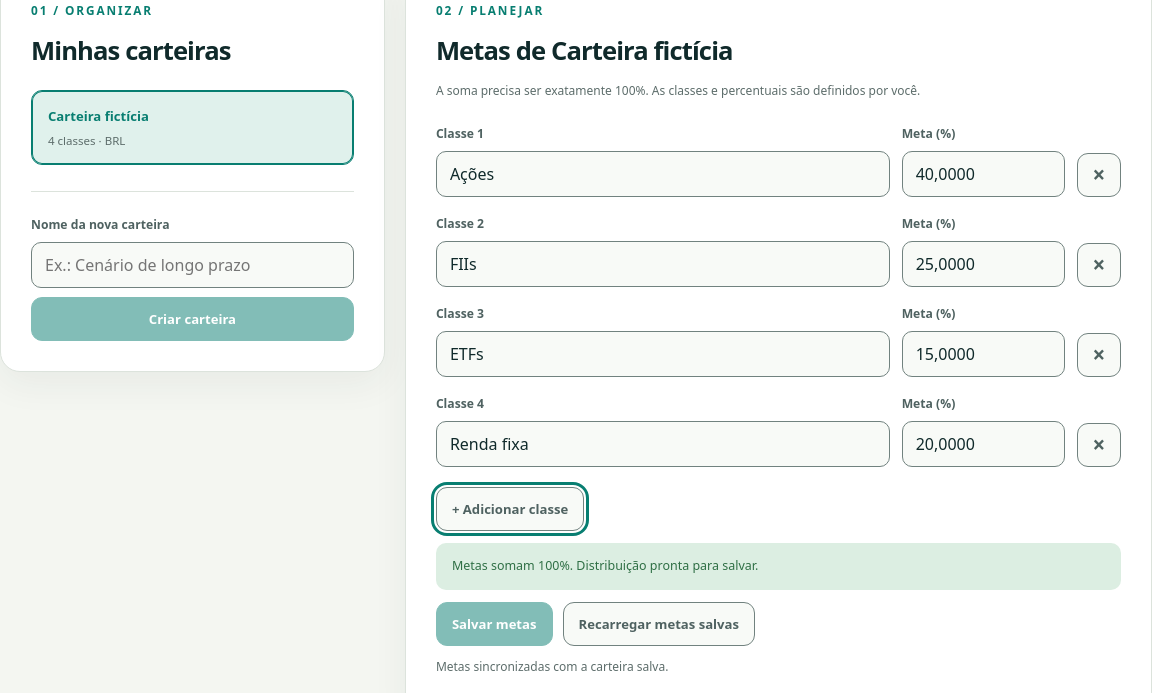
Test case: SavedPortfolio › focuses the new class name and associates validation with the save control
(page scrolled)
Press Enter
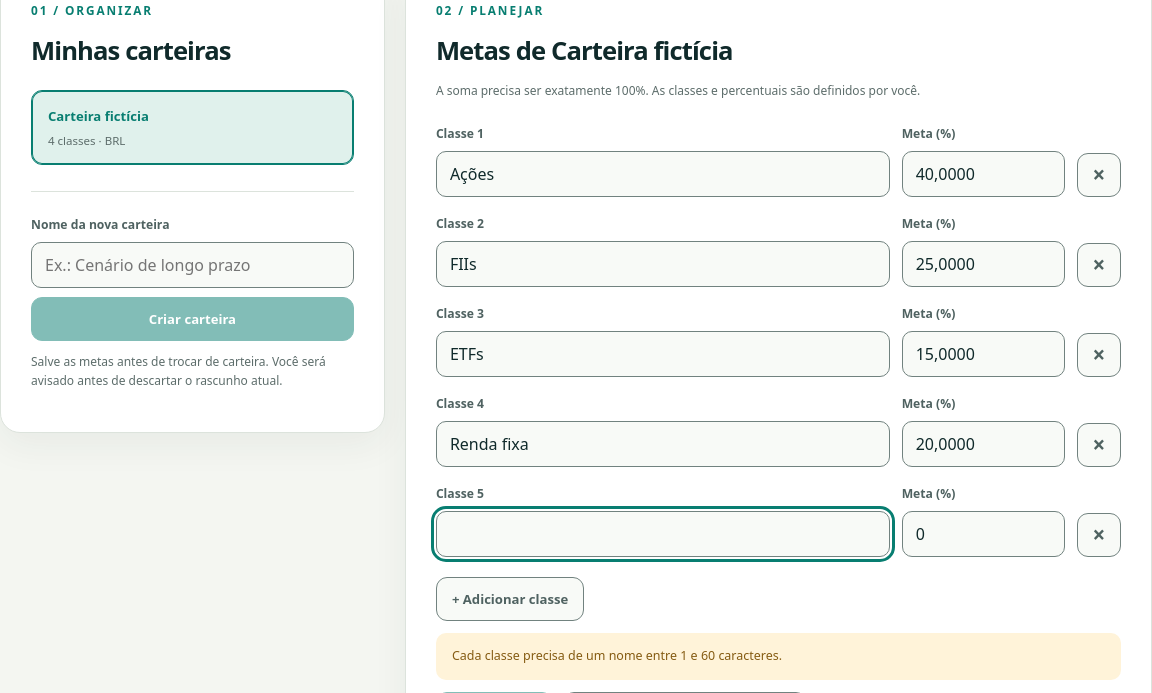
Check: the message named "Validação das metas" shows "Cada classe precisa de um nome", box [452, 647, 782, 664]
Type "Caixa fictício" into the field named "Nome da classe 5" at (663, 534), box [436, 510, 890, 556]
(page scrolled)
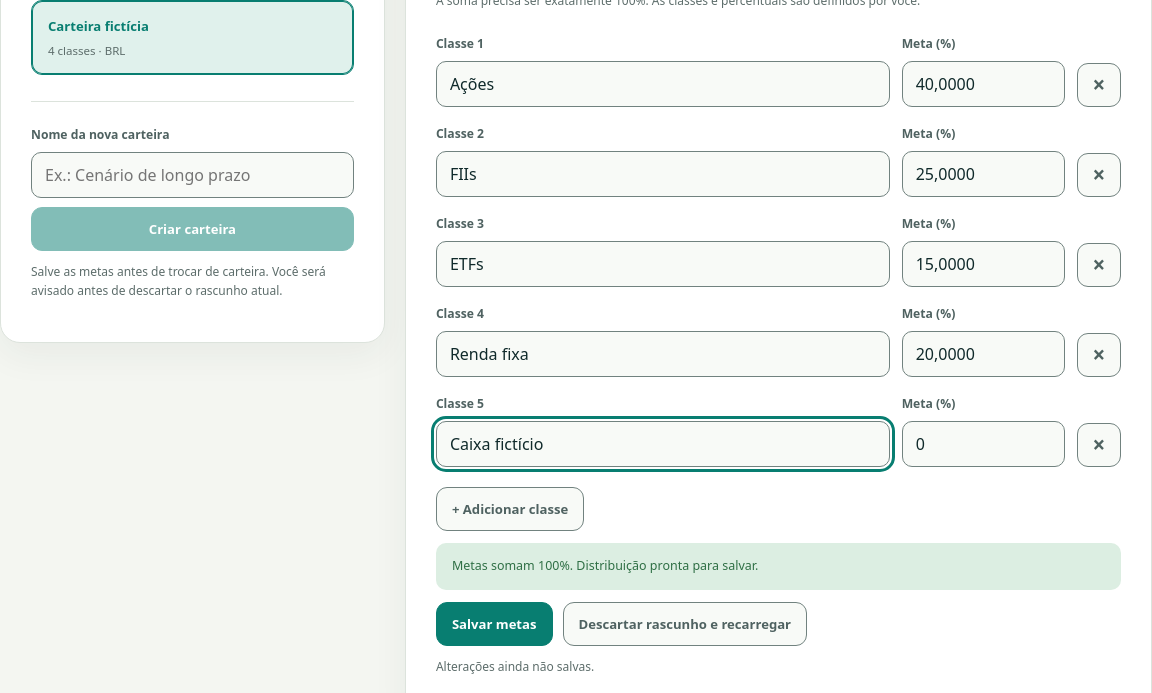
Check: the message named "Validação das metas" shows "Metas somam 100%", box [452, 557, 758, 574]
Check: the button "Salvar metas" is enabled, box [436, 602, 552, 646]
